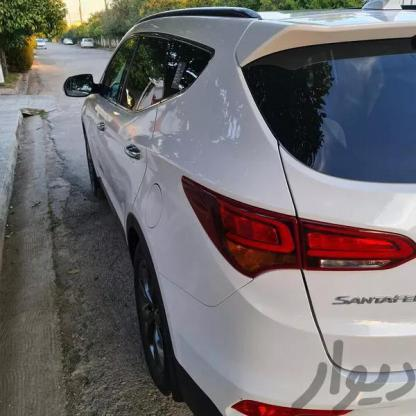Car: (66, 27, 416, 416), (78, 36, 95, 50), (36, 39, 51, 52), (62, 35, 76, 47)
